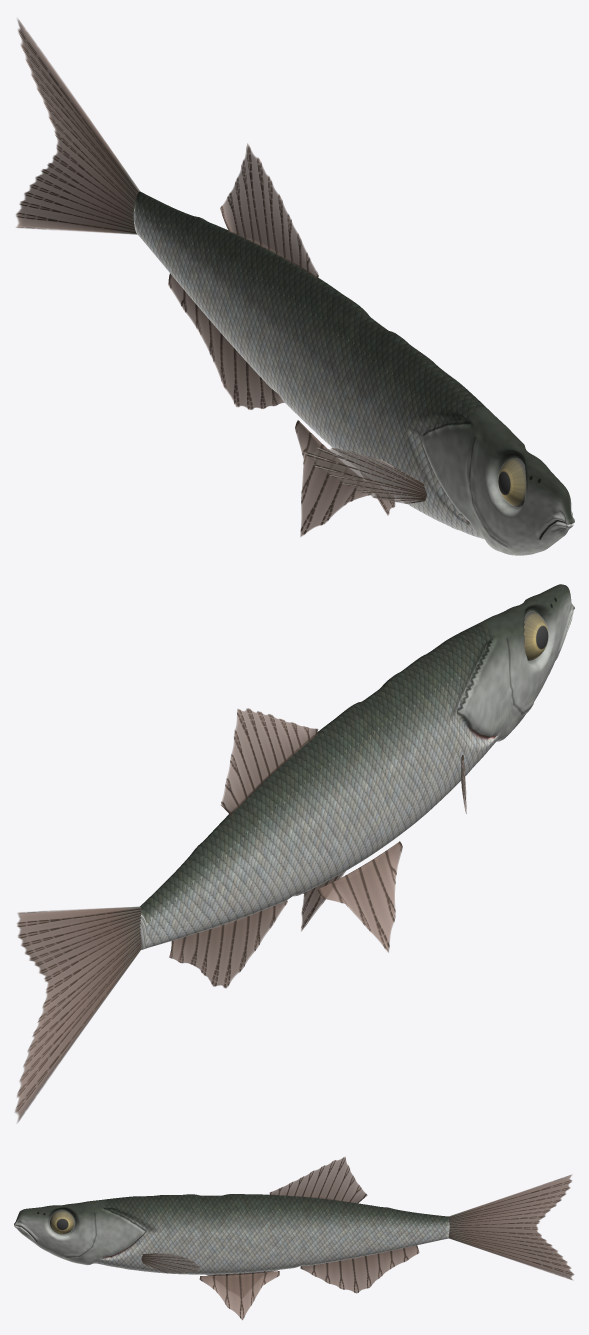
Rendered from ciosa.glb.
The picture shows the model from 3 angles, top to bottom: view 1: azimuth 30°, elevation 25°; view 2: azimuth 150°, elevation 25°; view 3: azimuth 270°, elevation 25°; orthographic projection. The views are drawn at different scales.
Visible parts, largest first — view 1: Body, FinCaudal, FinDorsal1, FinPelvic, FinAnal, FinPectoral, CorneaLeft, EyeLeft; view 2: Body, FinCaudal, FinDorsal1, FinPelvic, FinAnal, EyeLeft, CorneaLeft; view 3: Body, FinCaudal, FinAnal, FinDorsal1, FinPelvic, FinPectoral, EyeRight, CorneaRight.
Boxes of the visible parts, box(x1,y1,x2,y2) form: Body: box(133, 191, 574, 555); FinCaudal: box(15, 19, 140, 234); FinDorsal1: box(220, 143, 318, 278); FinPelvic: box(295, 420, 395, 536); FinAnal: box(168, 273, 284, 409); FinPectoral: box(303, 447, 426, 503); CorneaLeft: box(498, 458, 525, 506); EyeLeft: box(498, 458, 526, 506); Body: box(139, 584, 574, 949); FinCaudal: box(14, 906, 141, 1122); FinDorsal1: box(221, 708, 318, 815); FinPelvic: box(301, 841, 402, 952); FinAnal: box(169, 900, 287, 988); EyeLeft: box(523, 611, 548, 660); CorneaLeft: box(524, 611, 548, 660); Body: box(14, 1194, 449, 1274); FinCaudal: box(448, 1174, 574, 1280); FinAnal: box(300, 1245, 419, 1293); FinDorsal1: box(269, 1156, 367, 1203); FinPelvic: box(199, 1270, 279, 1320); FinPectoral: box(141, 1252, 201, 1273); EyeRight: box(50, 1210, 74, 1234); CorneaRight: box(50, 1210, 74, 1234).
Bounding box in the file's own units: 0.17 × 0.3055 × 1.
8 materials, 7 textured.
